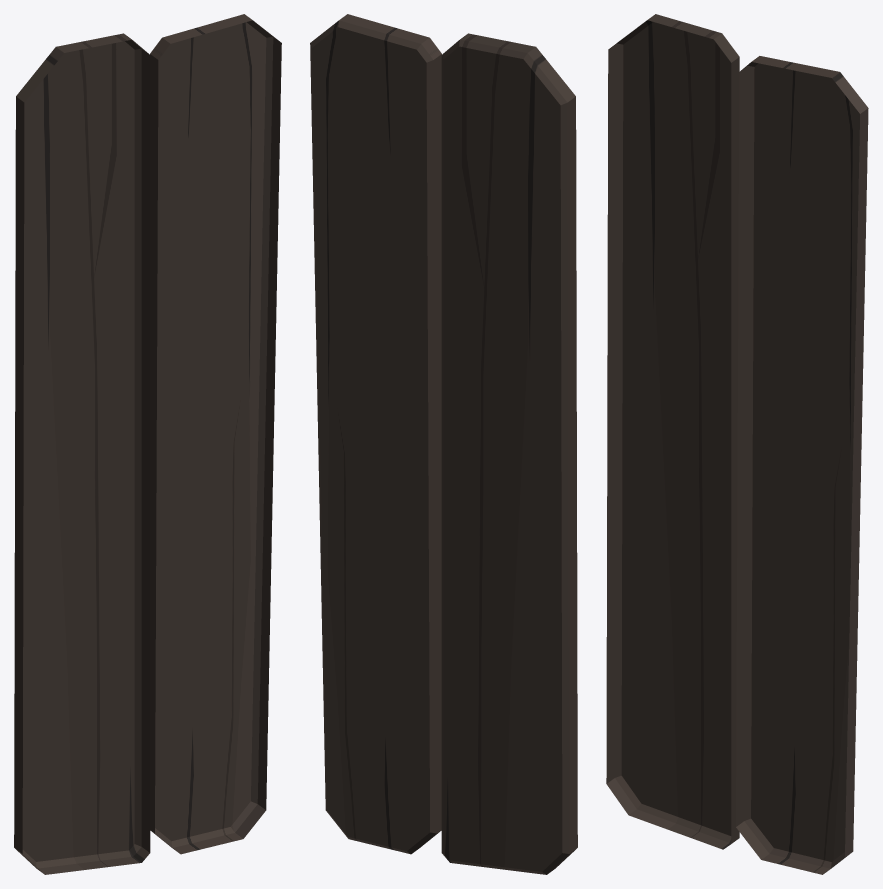
The model's file is Wooden Plank 01.FBX.
3 views of the same model, side by side, from view 1: azimuth 30°, elevation 25°; view 2: azimuth 150°, elevation 25°; view 3: azimuth 330°, elevation 25° (orthographic). The views are drawn at different scales.
Visible parts, largest first — view 1: Wooden Plank 01; view 2: Wooden Plank 01; view 3: Wooden Plank 01.
Boxes of the visible parts, bbox=[...] form: Wooden Plank 01: bbox=[14, 14, 281, 874]; Wooden Plank 01: bbox=[310, 14, 577, 874]; Wooden Plank 01: bbox=[606, 14, 868, 874].
Size of the model in its own units: 154 by 472 by 11.43.
